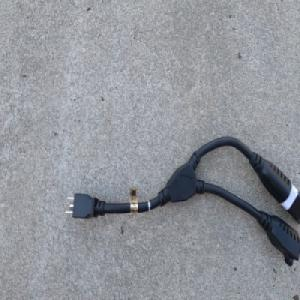Wire: (63, 134, 300, 266)
